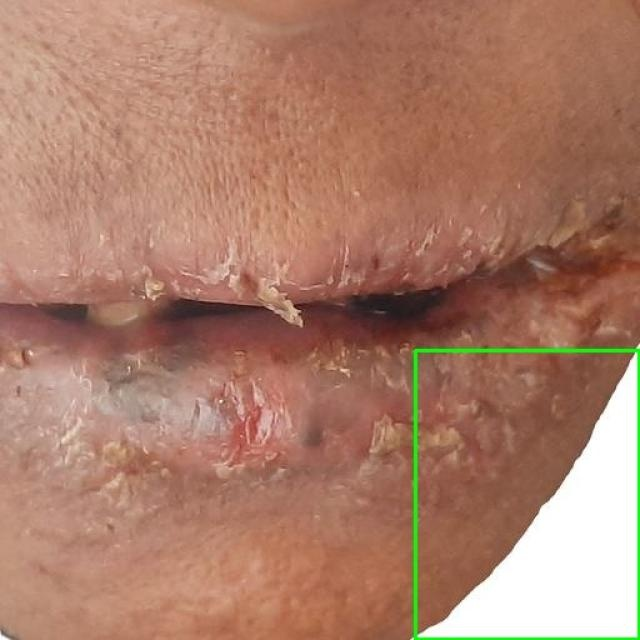Contact Dermatitis: (415, 350, 639, 639)
